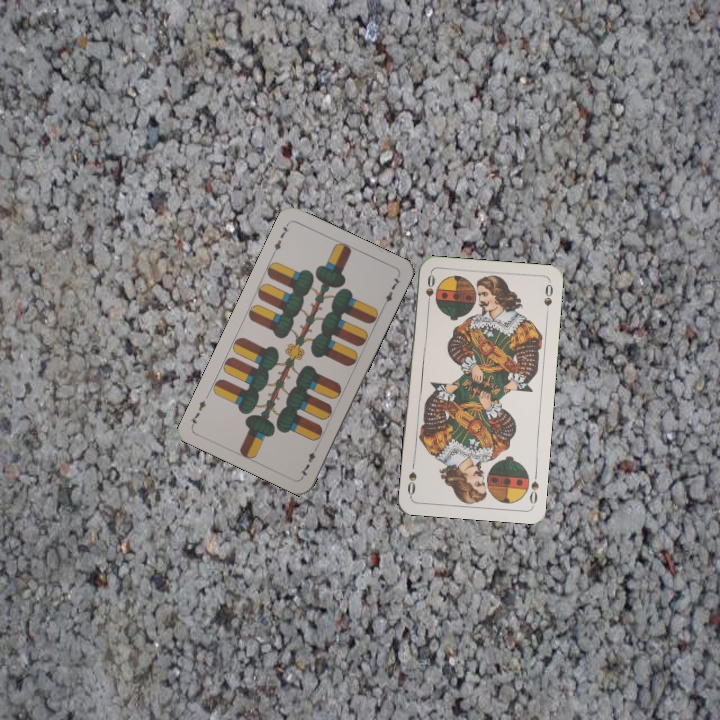E7: (296, 442, 321, 480), (268, 219, 291, 258)
SO: (525, 467, 541, 507), (422, 270, 437, 311)
